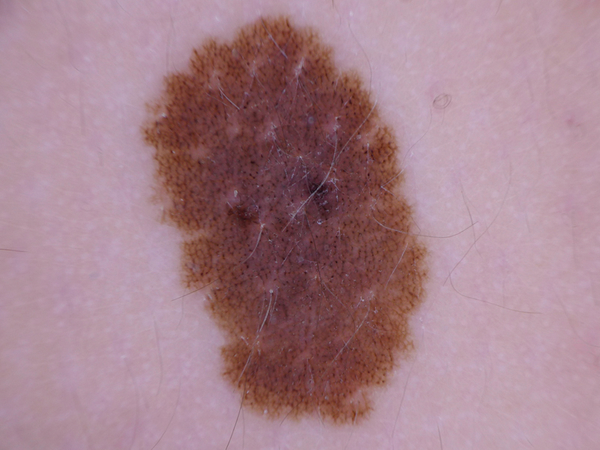Detected Lesion: (138, 14, 432, 428)
